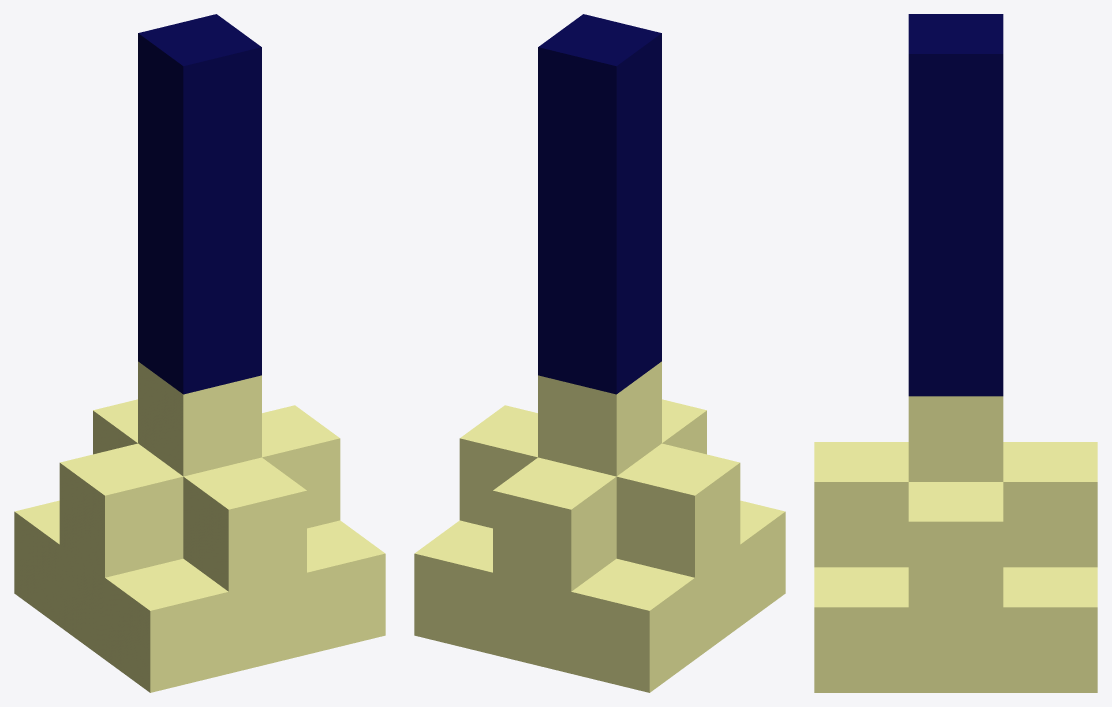
File: light_0.cube.obj
3 renders of one model, left to right at view 1: azimuth 30°, elevation 25°; view 2: azimuth 150°, elevation 25°; view 3: azimuth 270°, elevation 25°, orthographic. The views are drawn at different scales.
Bounding box in the file's own units: 3 × 7 × 3.
1 material, 1 textured.
